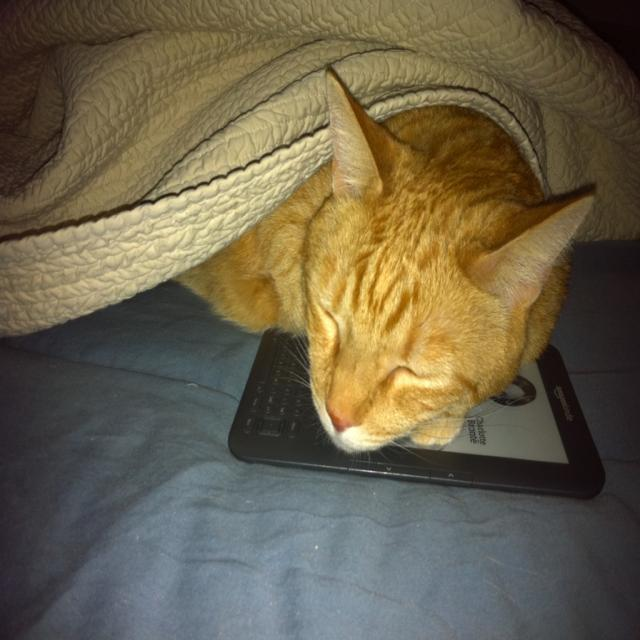Cat: (168, 67, 600, 468)
